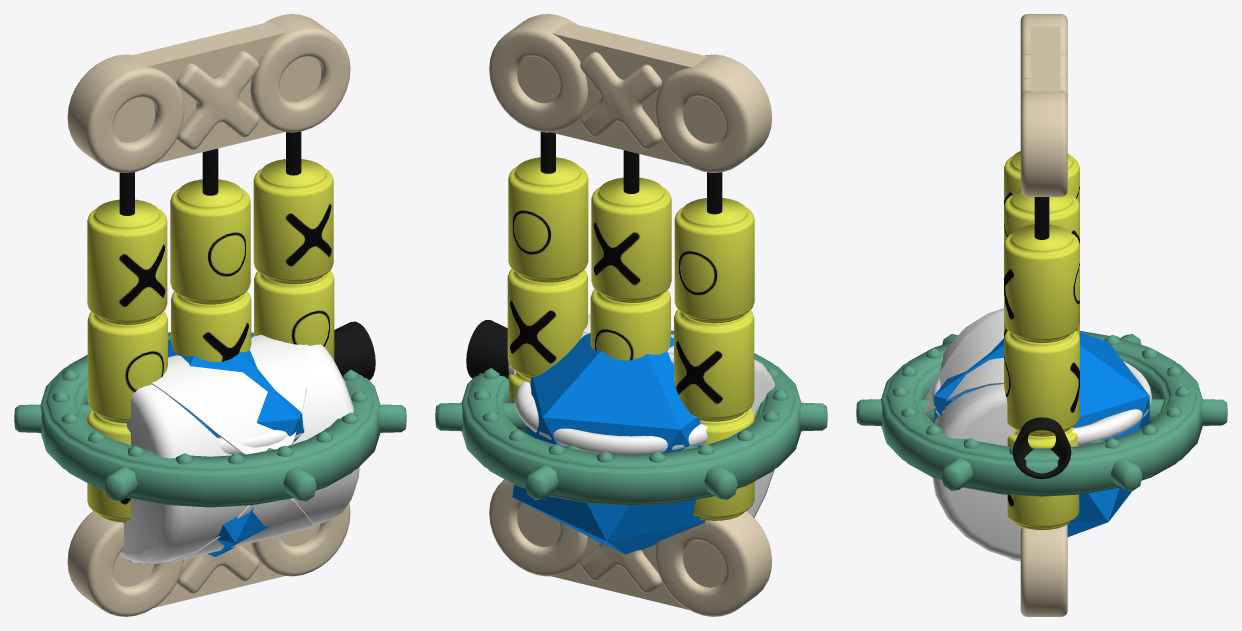
Rendered from Tic tac toe.glb.
The picture shows the model from 3 angles, left to right: view 1: azimuth 30°, elevation 25°; view 2: azimuth 150°, elevation 25°; view 3: azimuth 270°, elevation 25°; orthographic projection. The views are drawn at different scales.
Visible parts, largest first — view 1: Tic toc toe, Mailbox, Ship wheel, Joint.032, Super scoope, Steering wheel; view 2: Tic toc toe, Ship wheel, Joint.032, Steering wheel, Super scoope, Mailbox; view 3: Tic toc toe, Ship wheel, Mailbox, Joint.032, Super scoope, Steering wheel.
Part boxes in pixels (x1,y1,x2,y2): Tic toc toe: [67, 14, 350, 616]; Mailbox: [120, 335, 359, 564]; Ship wheel: [14, 332, 406, 507]; Joint.032: [168, 335, 304, 556]; Super scoope: [334, 321, 375, 380]; Steering wheel: [217, 423, 304, 454]; Tic toc toe: [489, 14, 771, 616]; Ship wheel: [435, 330, 827, 505]; Joint.032: [512, 333, 705, 554]; Steering wheel: [515, 381, 707, 454]; Super scoope: [466, 320, 516, 378]; Mailbox: [580, 314, 775, 517]; Tic toc toe: [1004, 14, 1079, 616]; Ship wheel: [856, 331, 1227, 496]; Mailbox: [923, 308, 1022, 561]; Joint.032: [934, 331, 1149, 536]; Super scoope: [1012, 417, 1071, 479]; Steering wheel: [932, 361, 1151, 445].
Bounding box in the file's own units: 0.3963 × 0.6862 × 0.4475.
10 materials, 2 textured.
